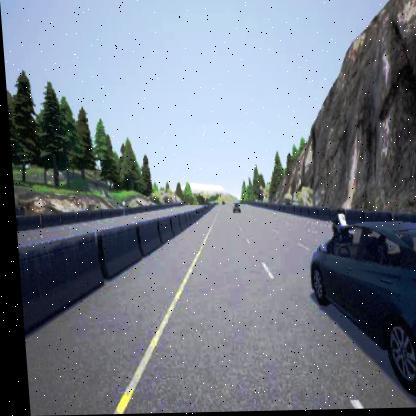motobike: (326, 210, 349, 248)
vehicle: (303, 218, 416, 401), (226, 202, 236, 213)
